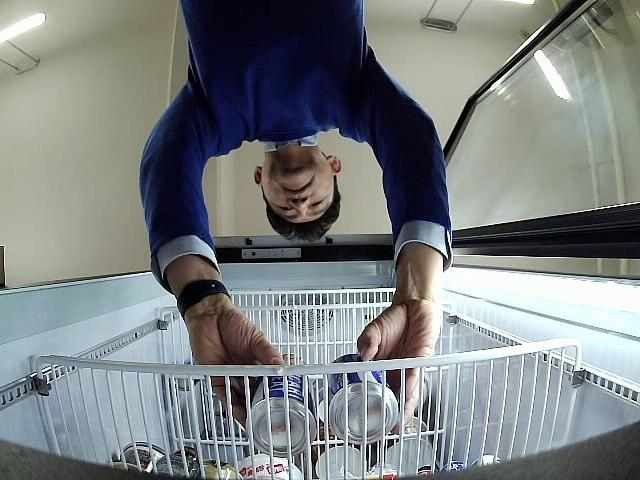13_pocariSweat: (328, 354, 398, 444), (246, 375, 317, 458)
